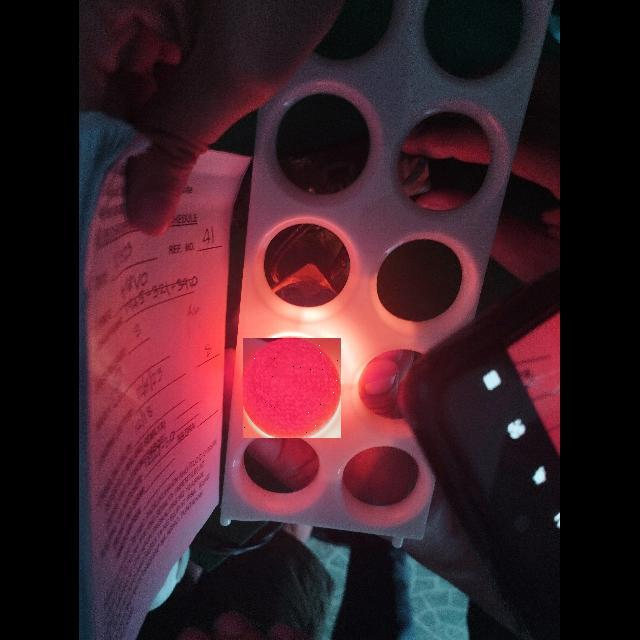Infertile: (243, 338, 341, 438)
